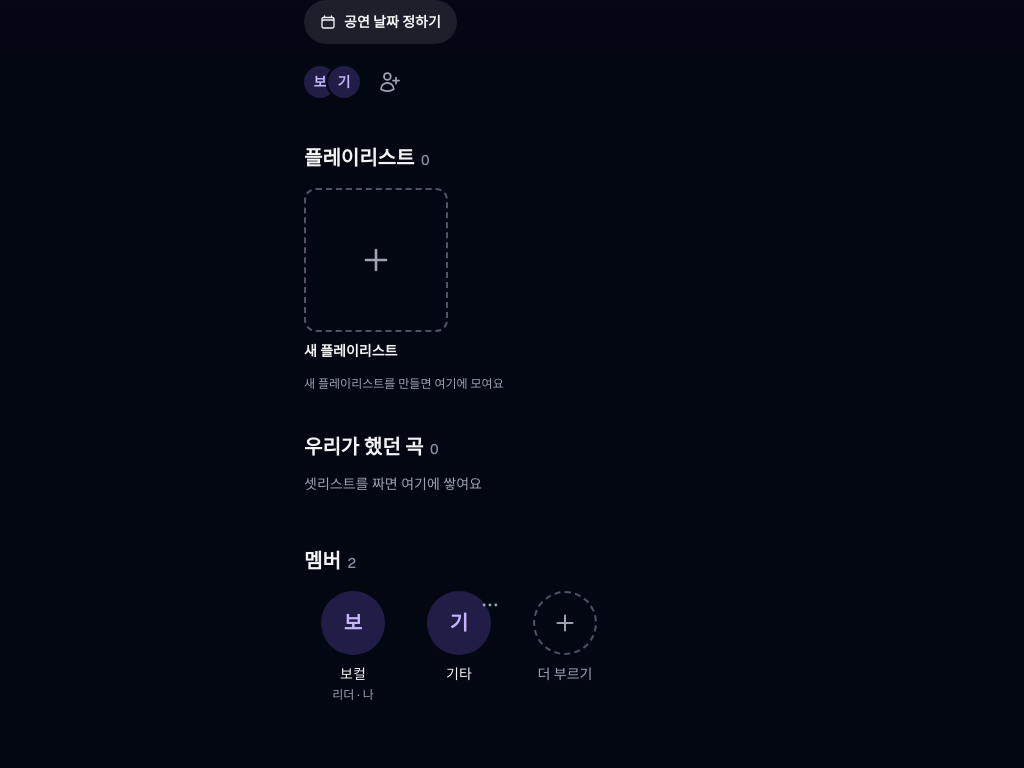
BandHomeClient member management (F1, 24B, R7) › shows the new invite link after removing with rotation, without moving the band address
(page scrolled)
Click the button named "기타 메뉴": point(490, 605) [468,583,512,627]
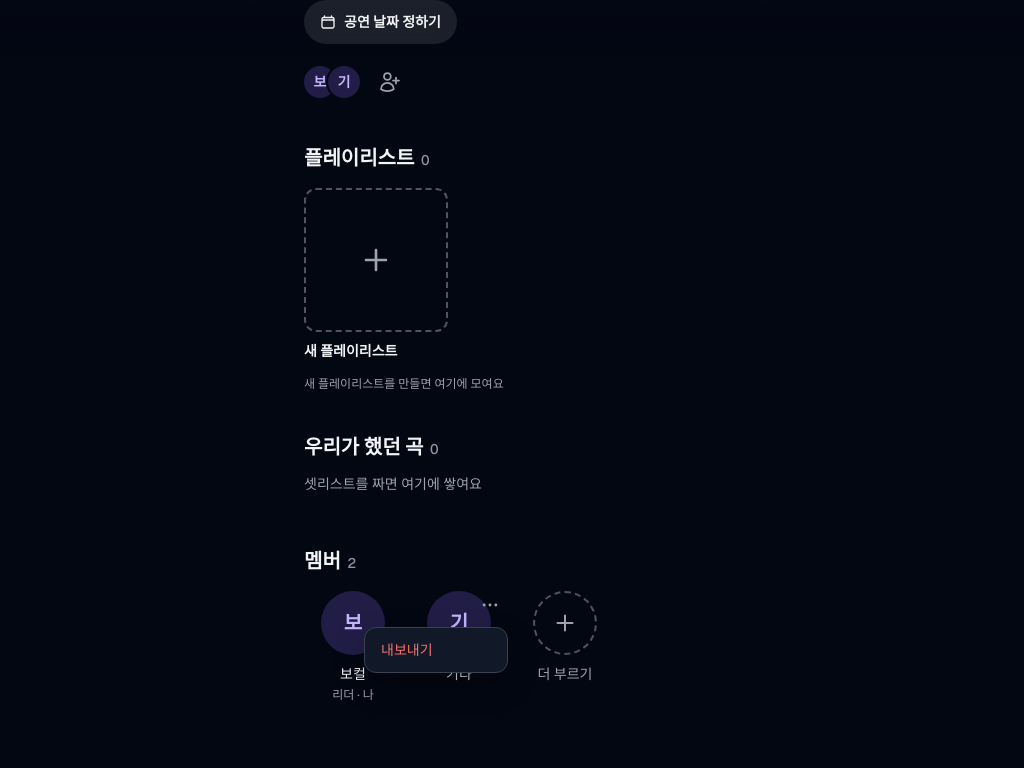
Click the menu item "내보내기": point(436, 650) [365,628,507,672]
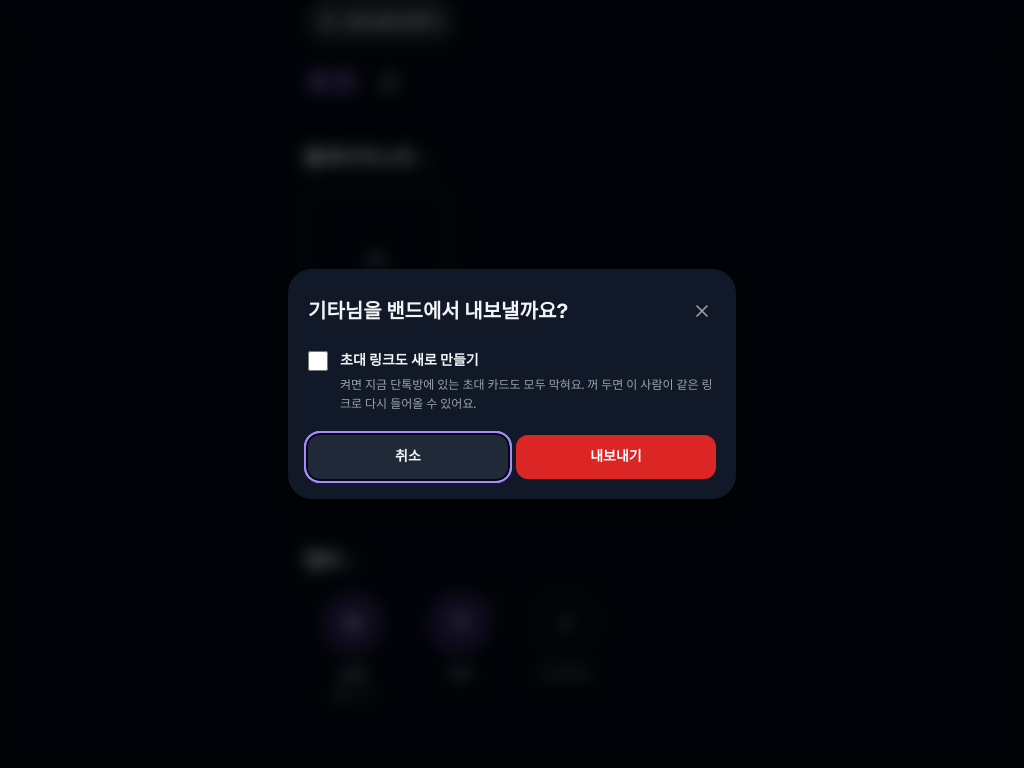
Click the checkbox labelled "초대 링크도 새로 만들기": point(318, 361) [308,351,328,371]
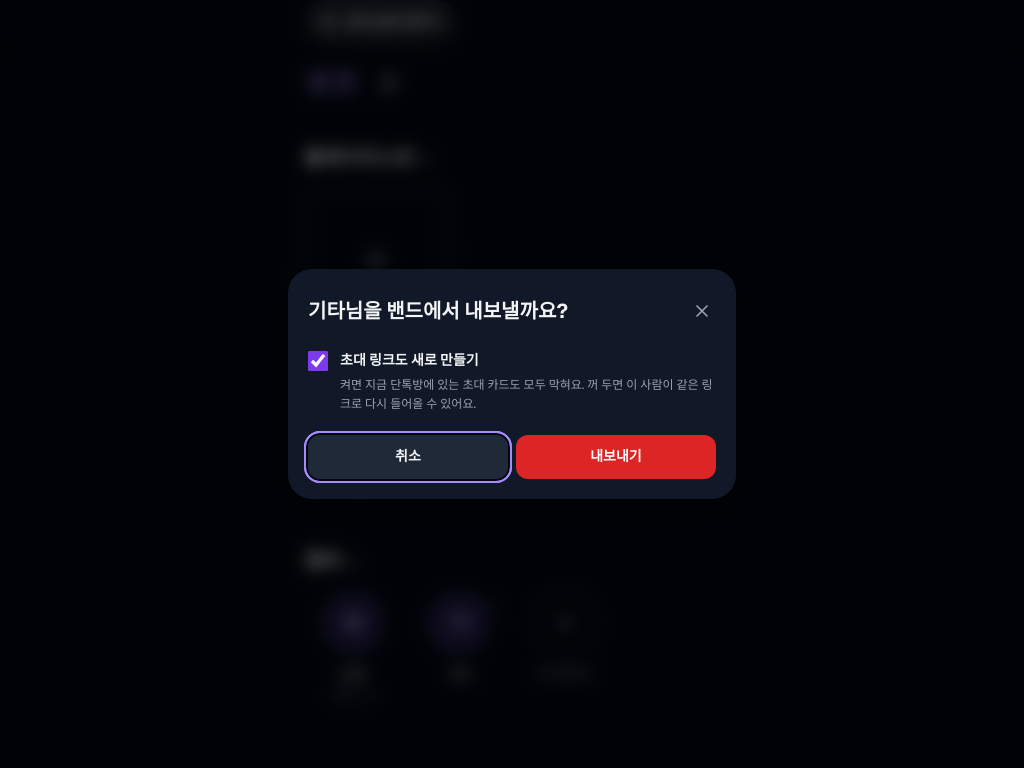
Click the button "내보내기": point(616, 457) [516,435,716,479]
(page scrolled)
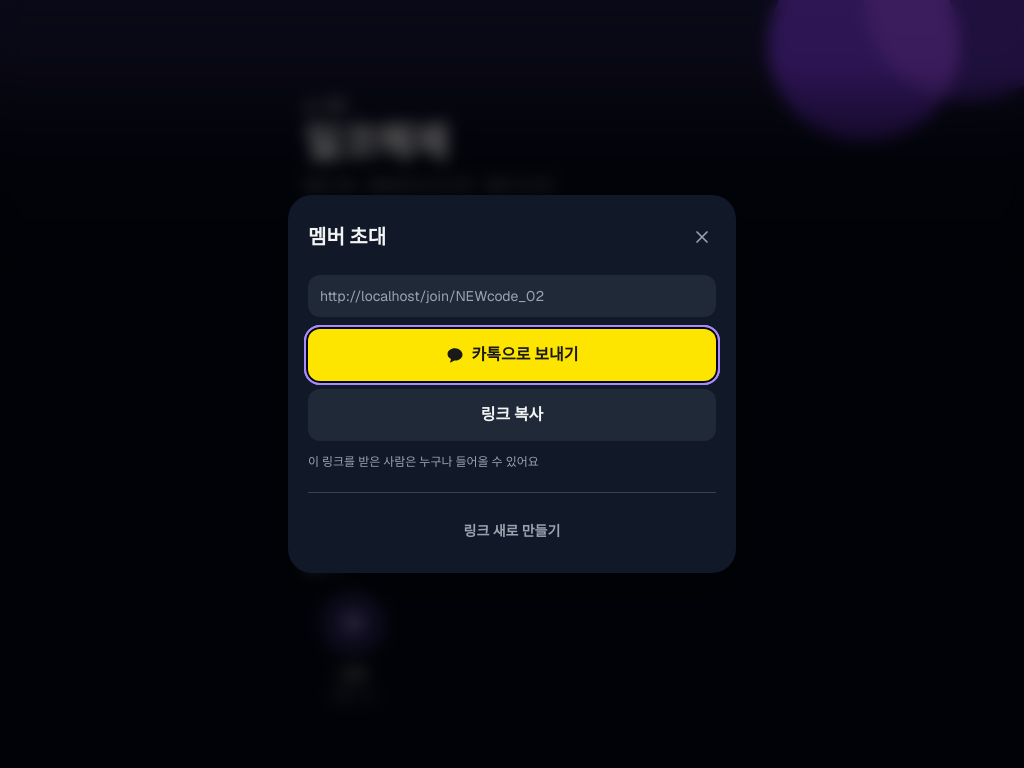
Expected: the text "http://localhost/join/NEWcode_02" is shown, [308,274,716,317]
